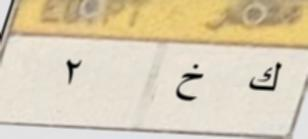2: (56, 54, 92, 92)
kaaf: (246, 57, 285, 100)
khaa: (170, 61, 212, 107)
